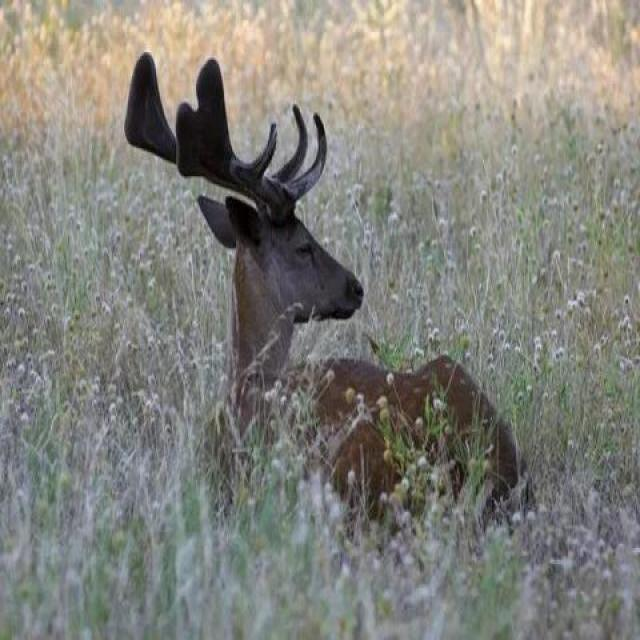deer: (138, 47, 518, 569)
